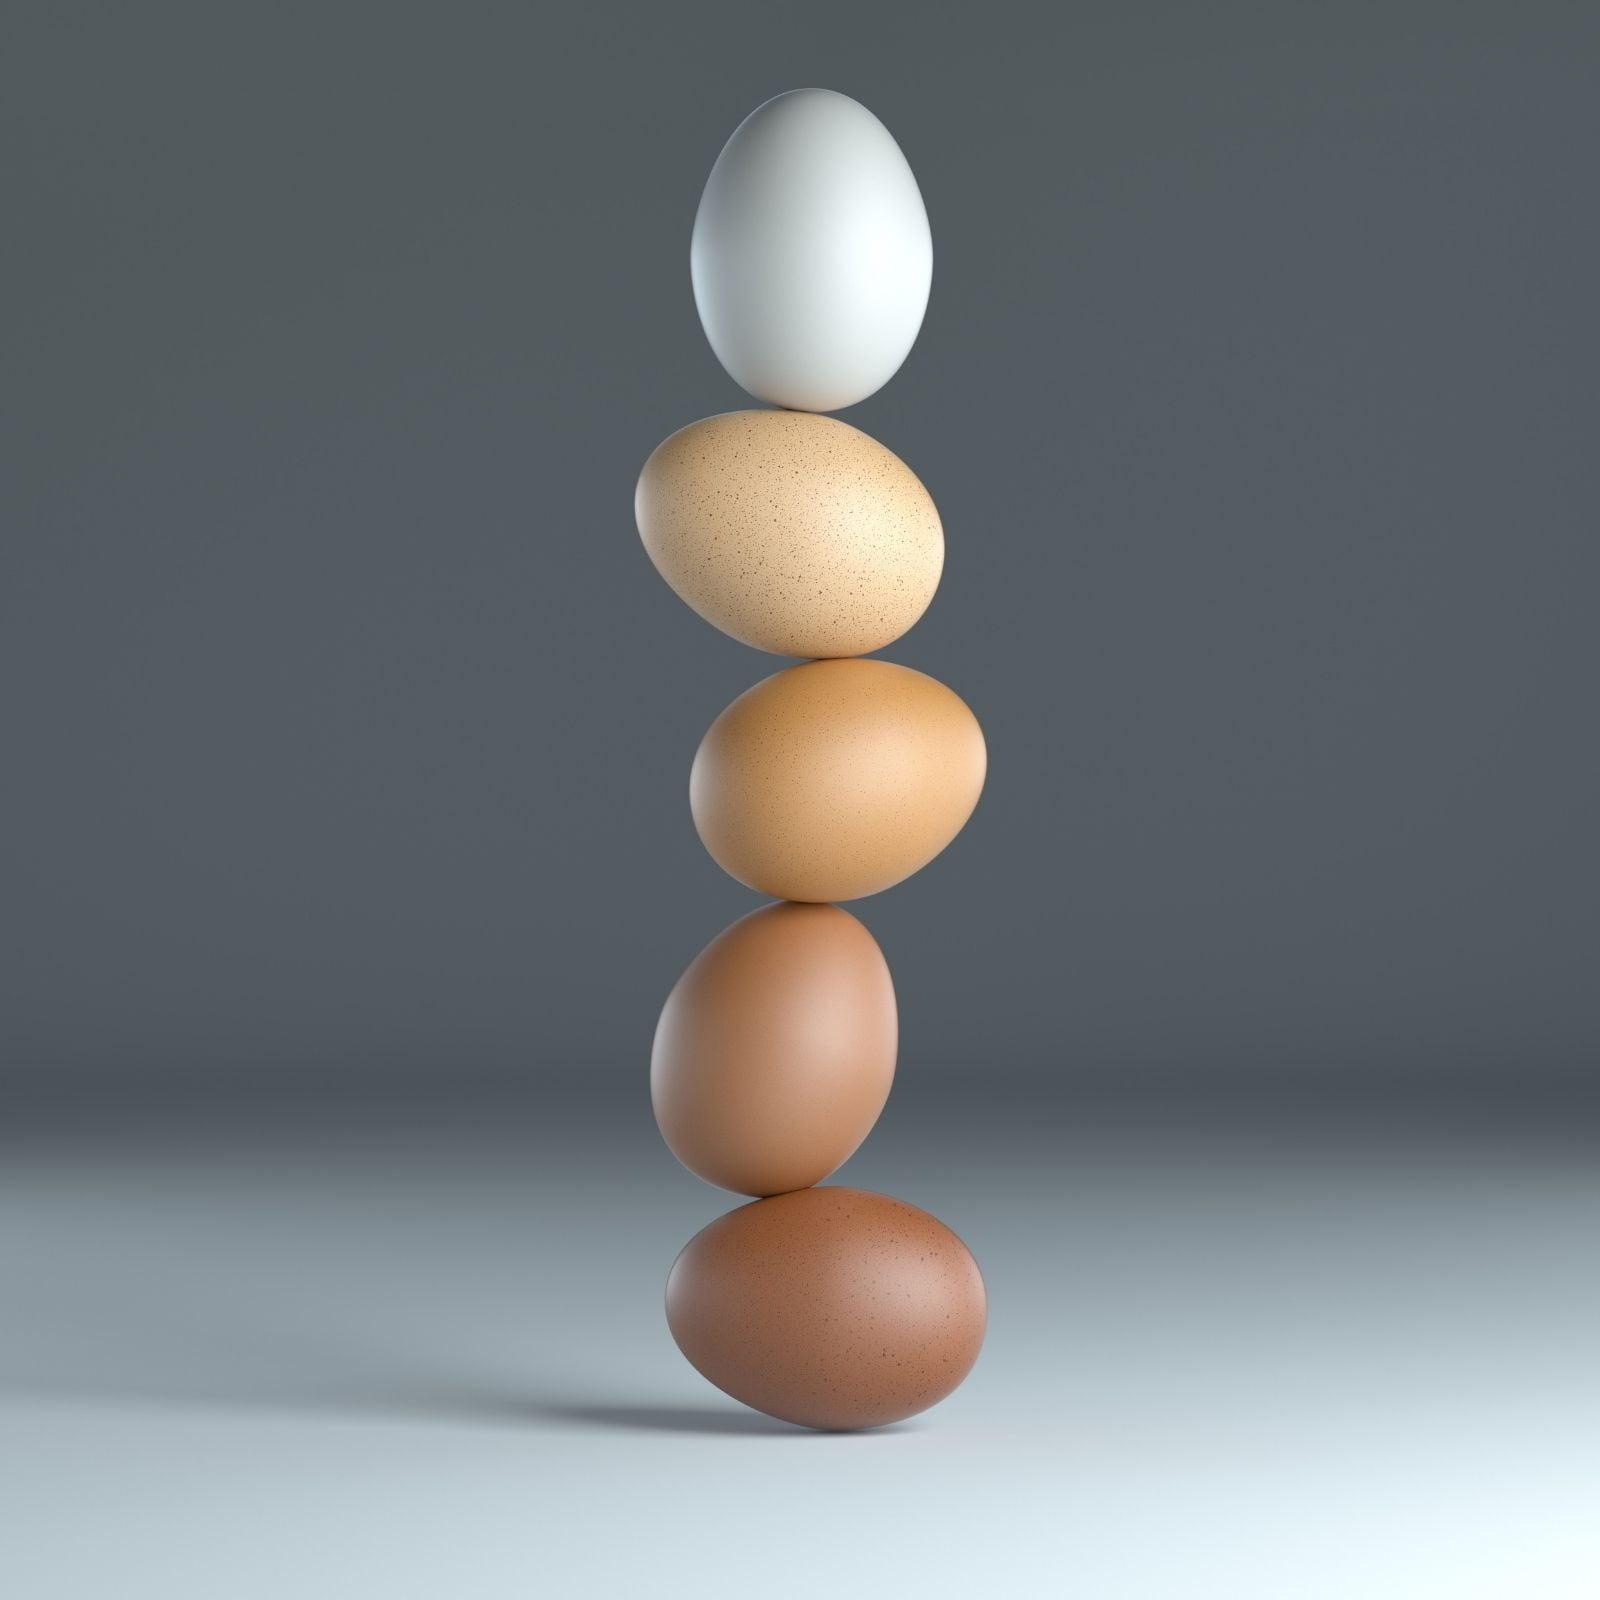egg: (648, 1184, 1005, 1446), (678, 64, 941, 418), (648, 653, 993, 905), (629, 412, 955, 664), (645, 892, 905, 1201)
